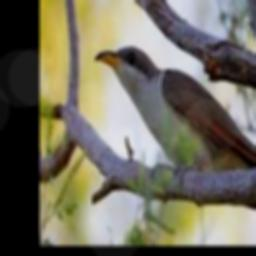Cuckoo: (96, 46, 256, 177)
